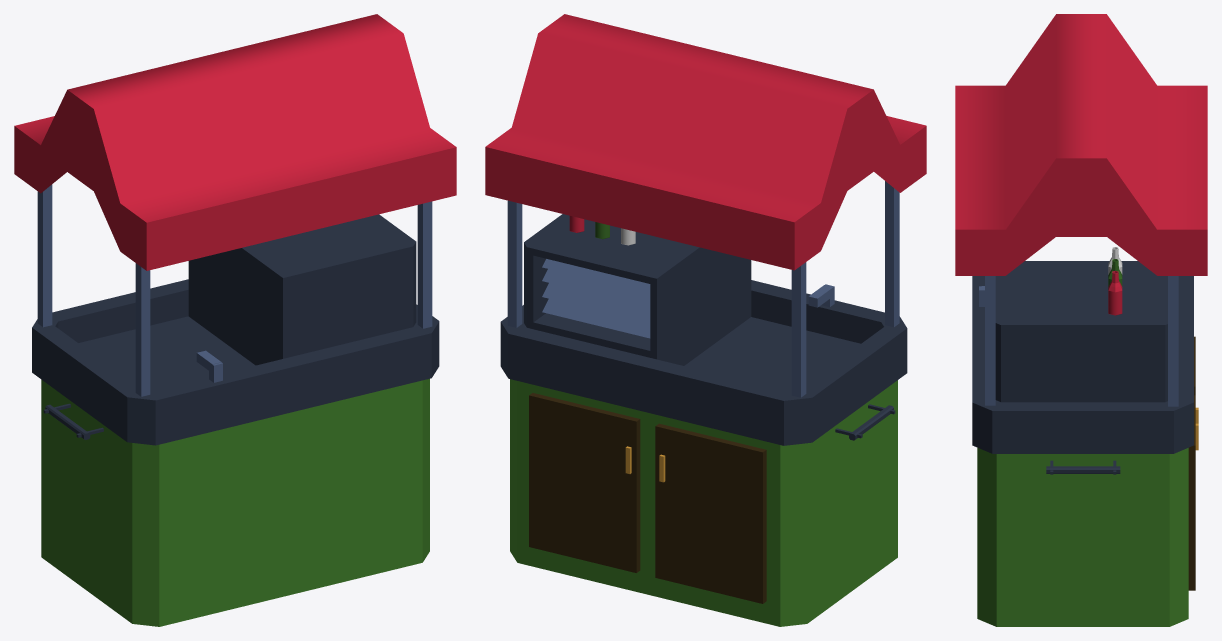
Rendered from HotDogTent2.FBX.
The picture shows the model from 3 angles, left to right: view 1: azimuth 30°, elevation 25°; view 2: azimuth 150°, elevation 25°; view 3: azimuth 270°, elevation 25°; orthographic projection. The views are drawn at different scales.
Visible parts, largest first — view 1: HotDogTent; view 2: HotDogTent; view 3: HotDogTent.
Part boxes in pixels (box(x1,y1,x2,y2)): HotDogTent: box(14, 14, 456, 626); HotDogTent: box(485, 14, 926, 626); HotDogTent: box(955, 14, 1207, 626).
Bounding box in the file's own units: 13.66 × 18.53 × 9.01.
